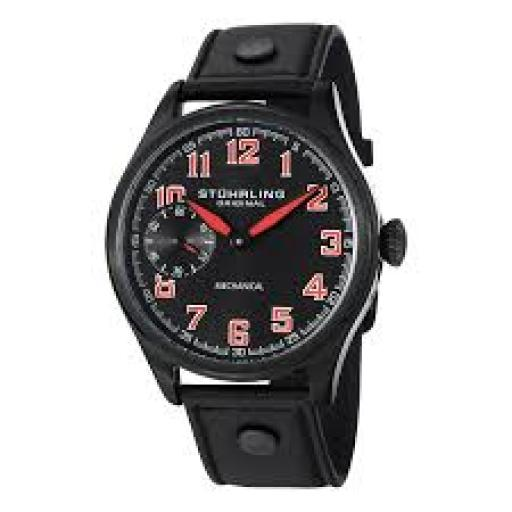KolSaati: (85, 6, 467, 499)
